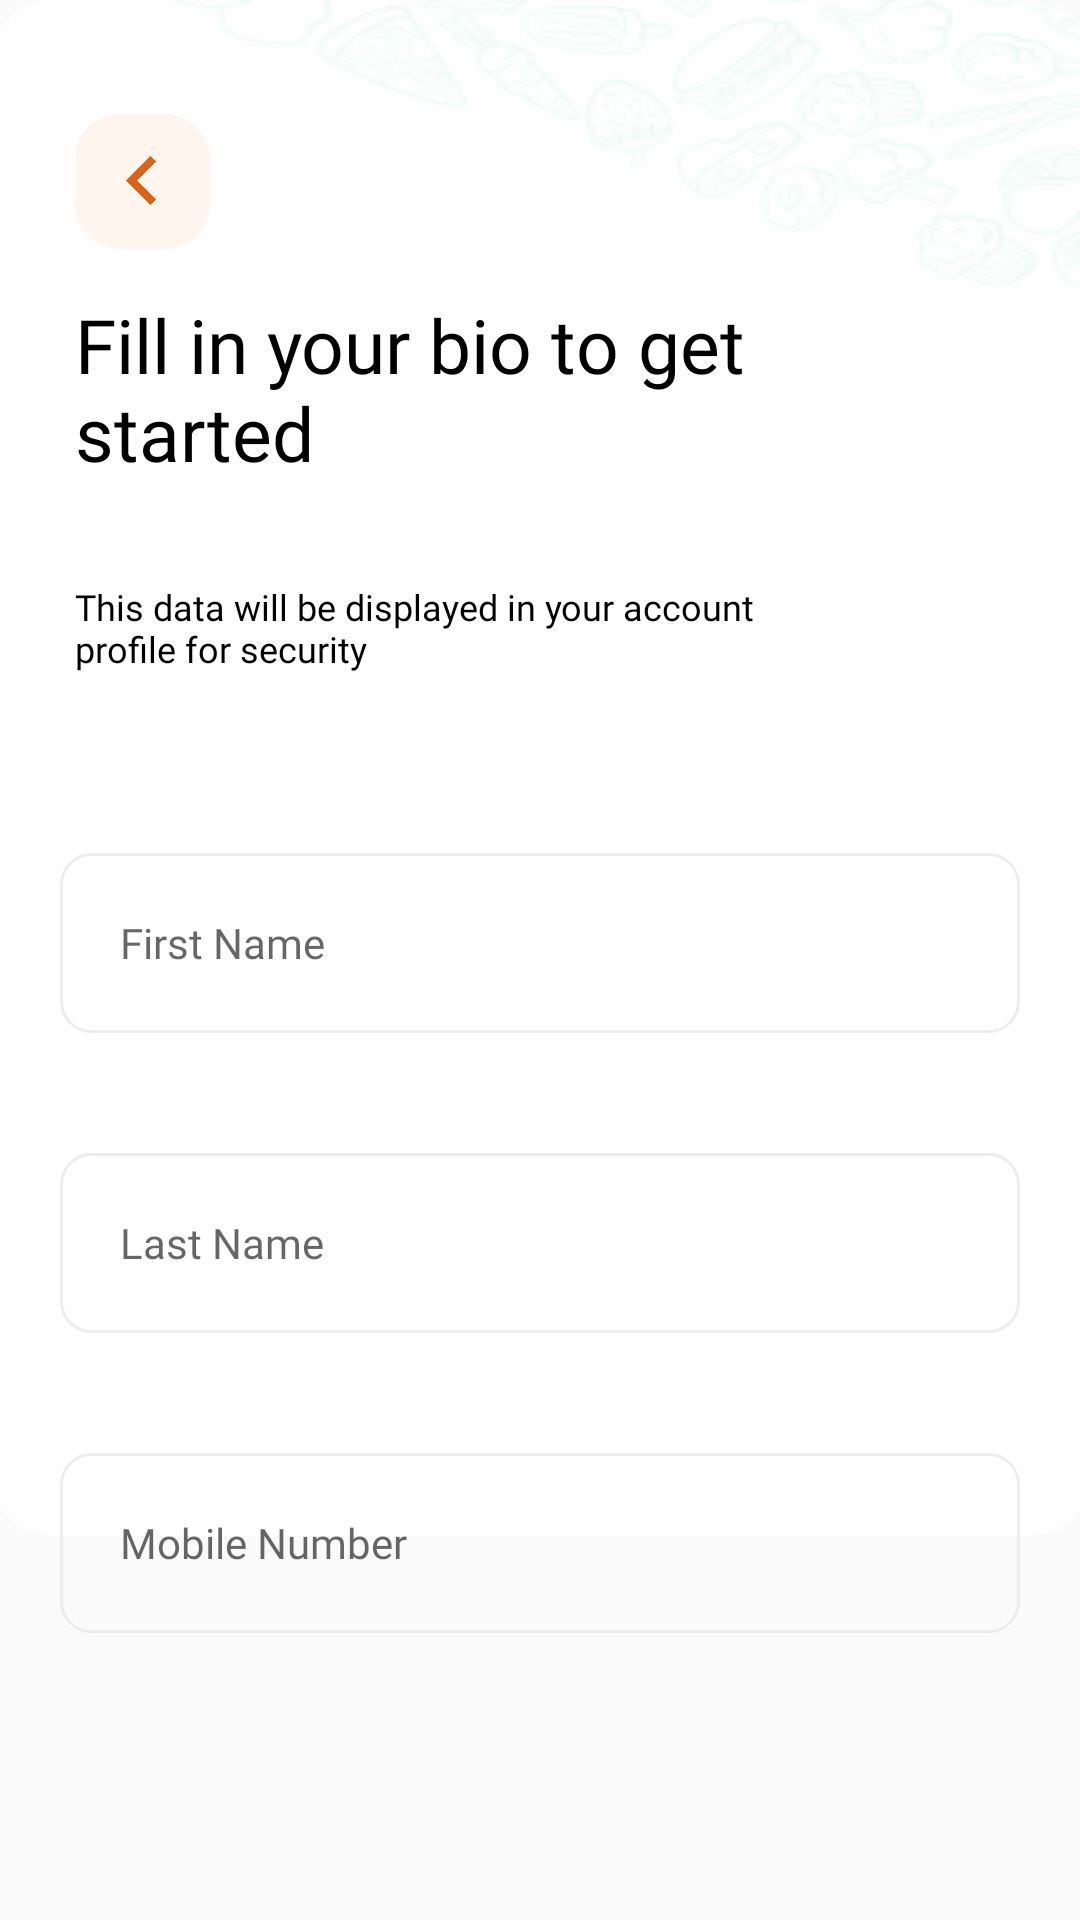

Screen size 1080x1920. Icon name, then its center in pixels as (x=x, y=y):
backicon: (x=142, y=181)
